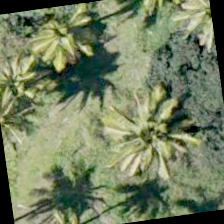Kelapa_Sawit: (115, 85, 217, 186), (12, 0, 113, 94), (0, 32, 75, 132), (0, 62, 52, 159)
